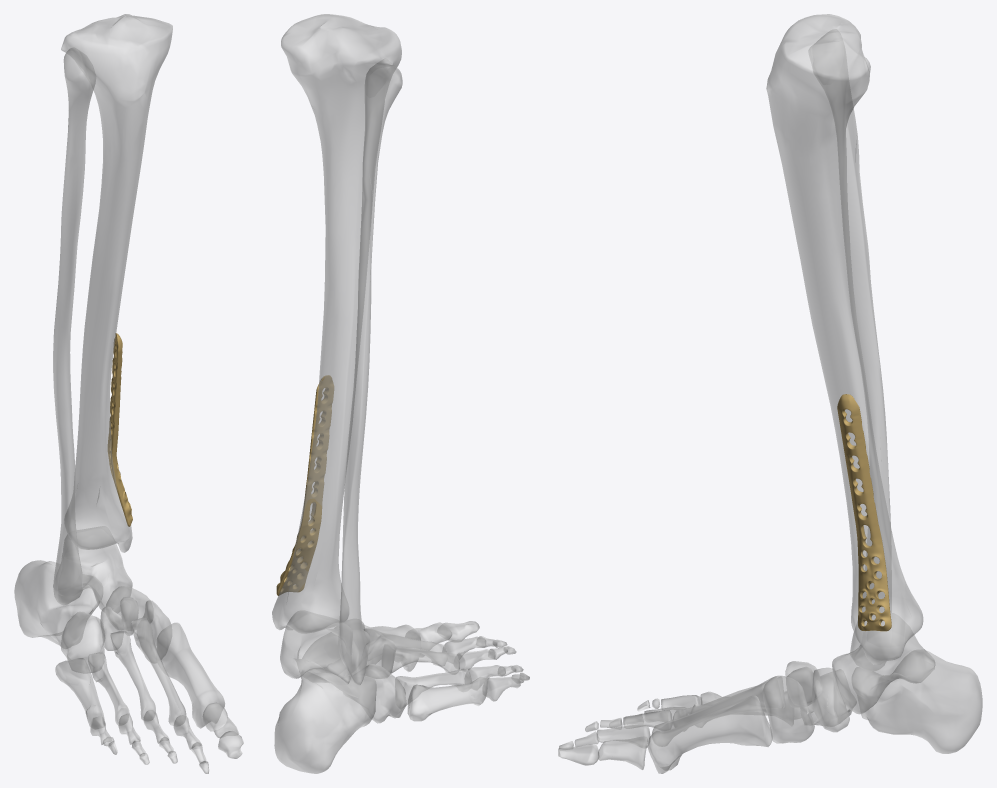
The model's file is Bone_Plate.glb.
3 views of the same model, side by side, from view 1: azimuth 30°, elevation 25°; view 2: azimuth 150°, elevation 25°; view 3: azimuth 270°, elevation 25° (orthographic). The views are drawn at different scales.
Parts seen in each view (by area): view 1: Skeletal_Tibia2, Mainsteel; view 2: Skeletal_Tibia2, Mainsteel; view 3: Skeletal_Tibia2, Mainsteel.
Boxes of the visible parts, box(x1,y1,x2,y2) form: Skeletal_Tibia2: box(14, 14, 243, 773); Mainsteel: box(107, 333, 132, 526); Skeletal_Tibia2: box(272, 14, 529, 773); Mainsteel: box(276, 375, 333, 595); Skeletal_Tibia2: box(558, 14, 982, 773); Mainsteel: box(837, 394, 891, 631).
Size of the model in its own units: 0.1184 by 0.52 by 0.2725.
